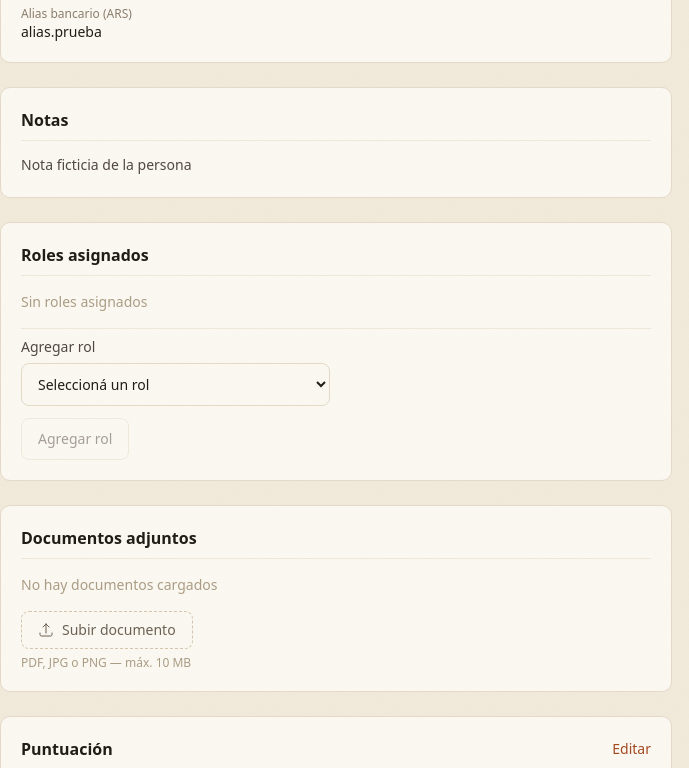
Test: PersonDetailPage › el error de la API al agregar un rol se muestra
(page scrolled)
Select "Lead" in the dropdown labelled "Agregar rol" at (176, 384), box [21, 363, 330, 406]
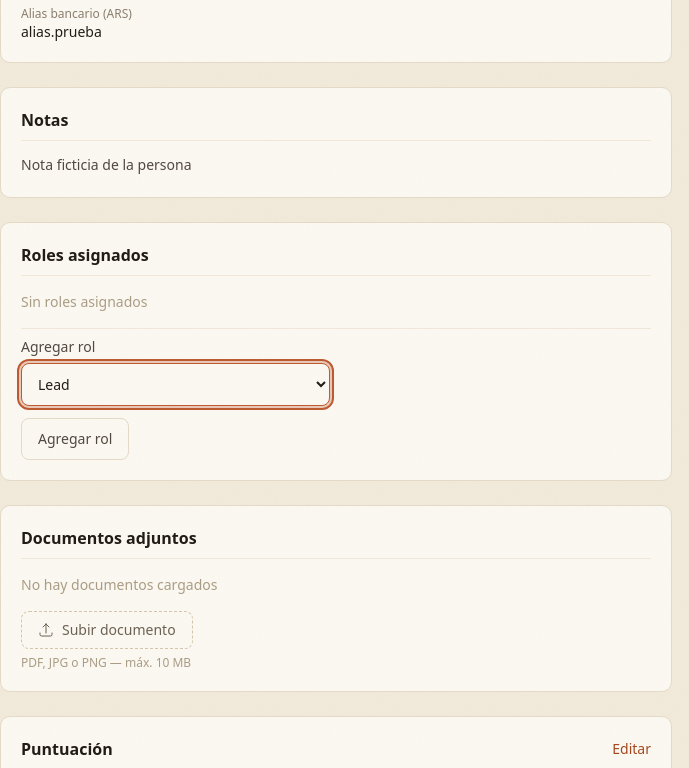
Click the button "Agregar rol" at (75, 439), box [21, 418, 129, 460]
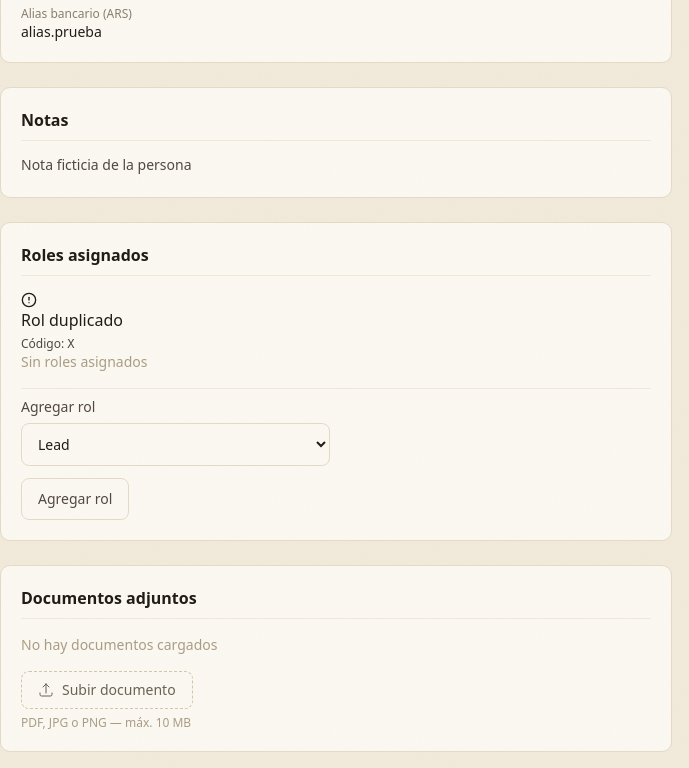
Result: the text "Rol duplicado" is shown at [21, 309, 123, 331]
